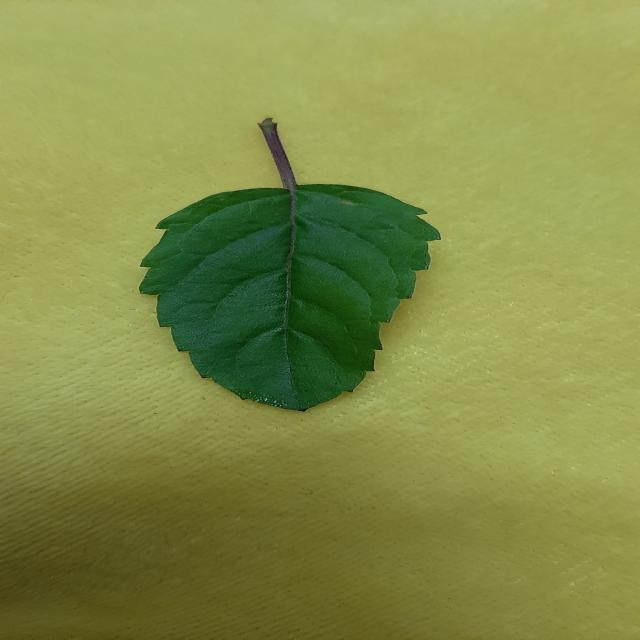tulsi: (141, 185, 439, 410)
